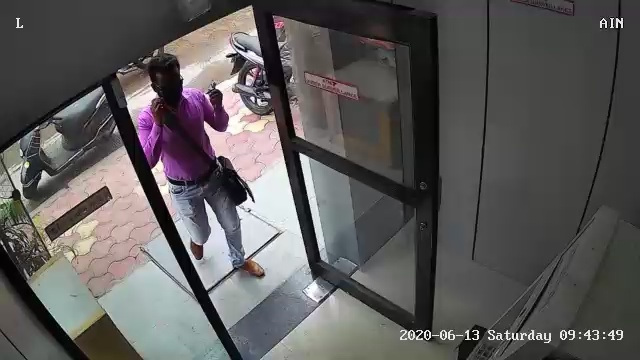open: (106, 4, 449, 359)
